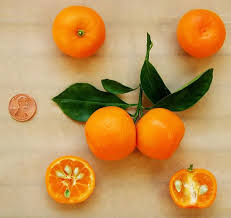orange: (49, 3, 108, 61), (175, 7, 229, 61)
